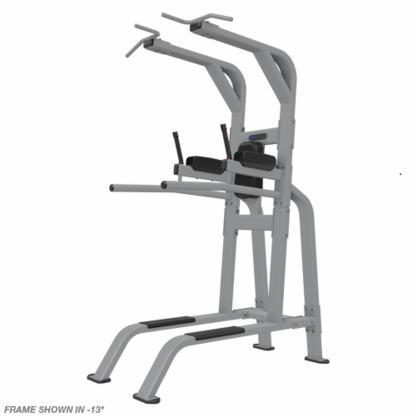chinning dipping: (90, 11, 330, 403)
